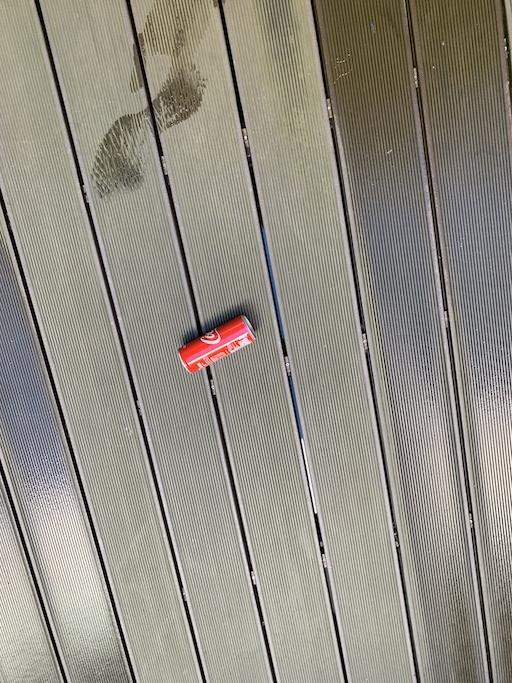Aluminum can: (167, 303, 278, 384)
